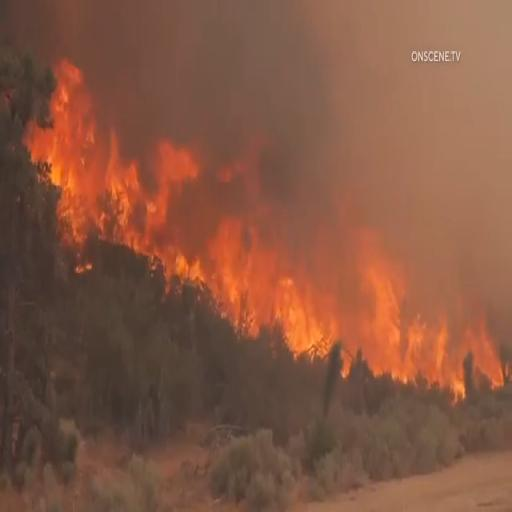fire: (336, 232, 508, 390), (39, 88, 188, 262), (191, 232, 327, 348)
